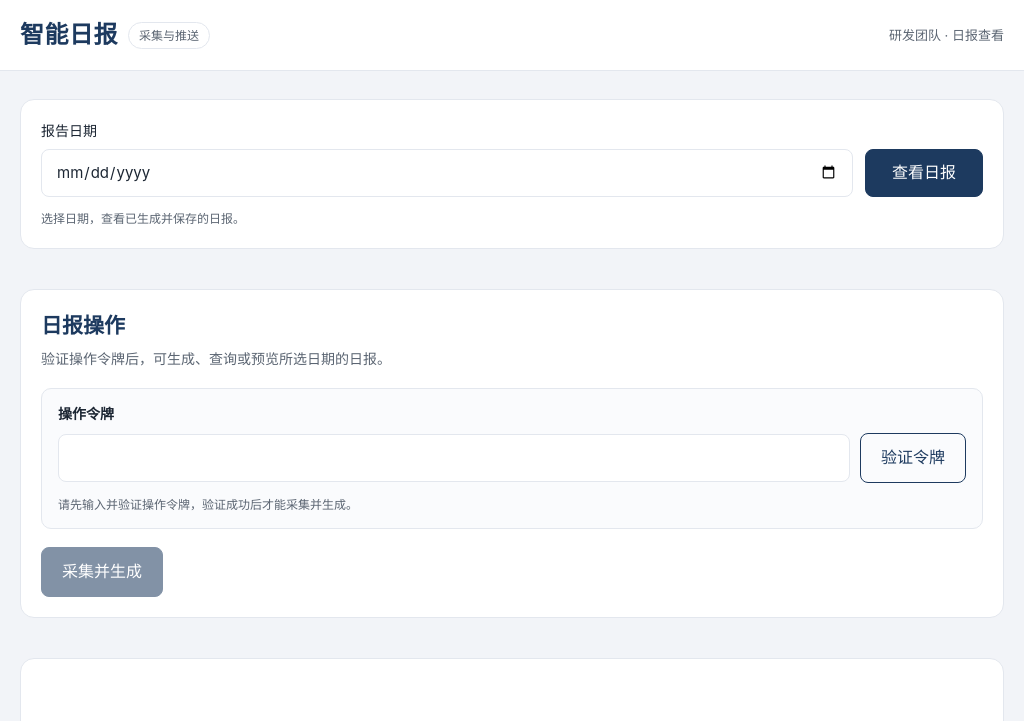
Test: refresh_auth_recovers_current_operation_without_post
Step 1. Type "2026-09-25" into the date field labelled "报告日期" → (447, 173), box x1=41 y1=149 x2=853 y2=197
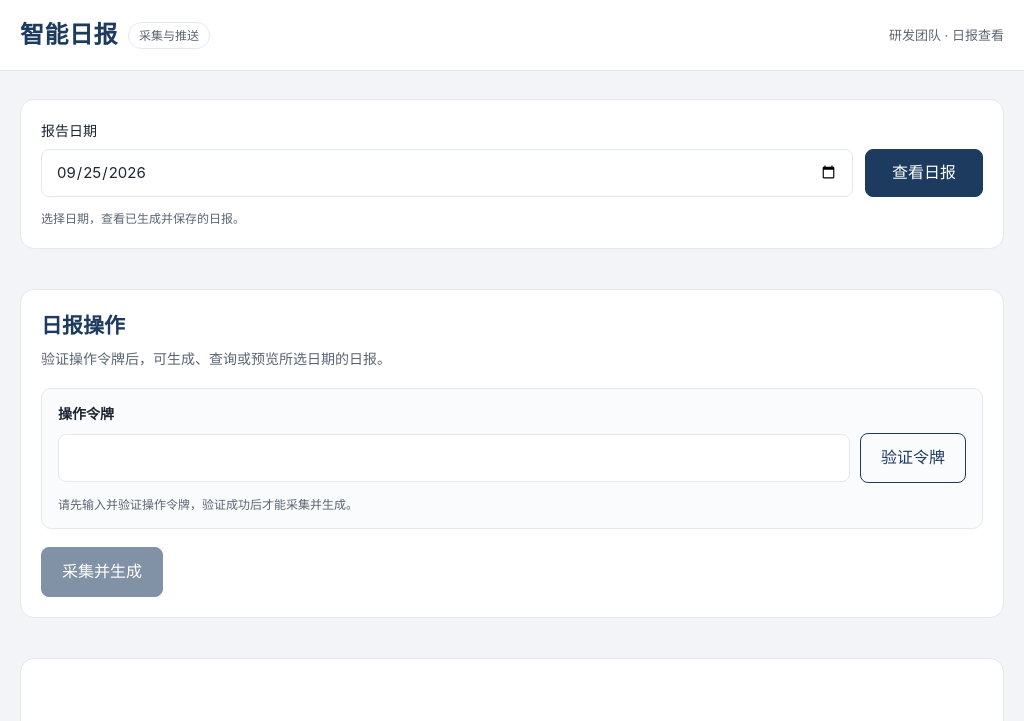
Step 2. Type "private-token" into the password field labelled "操作令牌" → (454, 458), box x1=58 y1=434 x2=850 y2=482
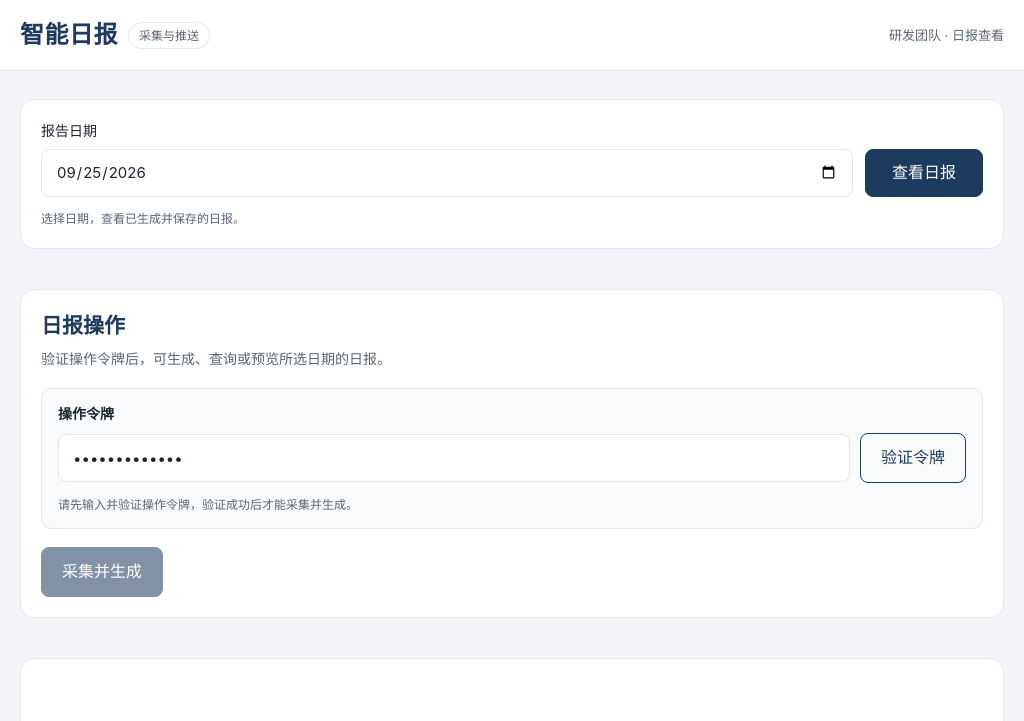
Step 3. Click the button "验证令牌" → (913, 458), box x1=860 y1=433 x2=966 y2=483
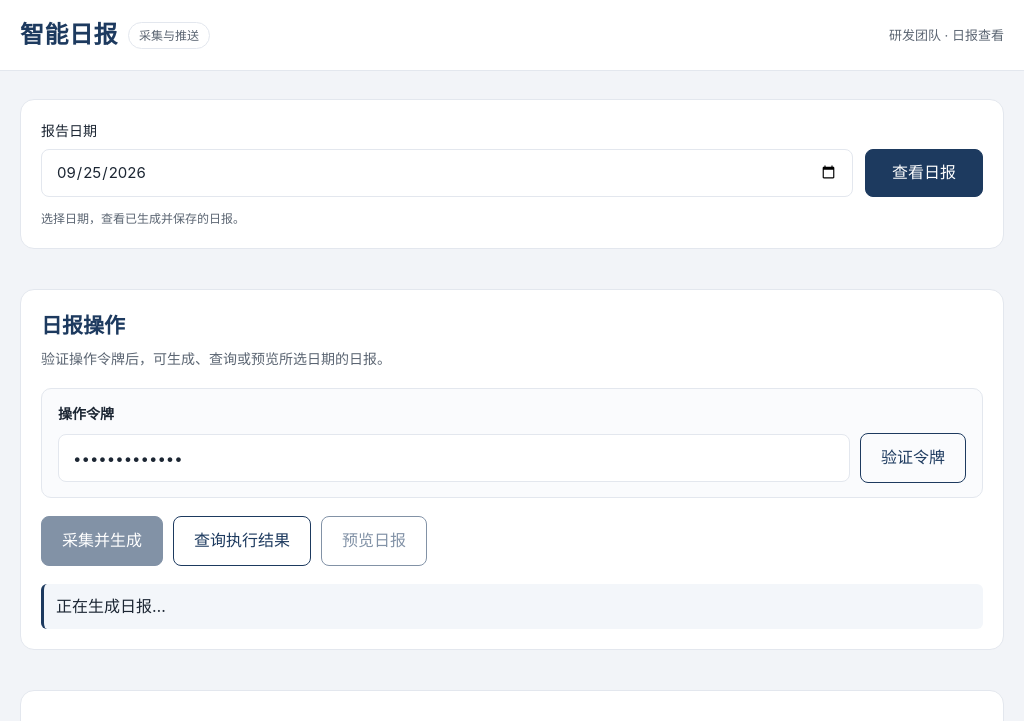
Check: the text "正在生成日报…" is shown, box x1=41 y1=584 x2=983 y2=629
